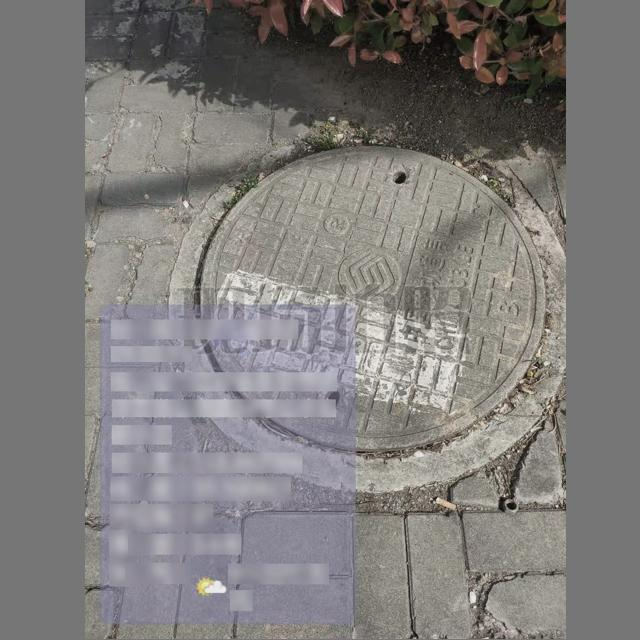circle: (188, 129, 557, 478)
